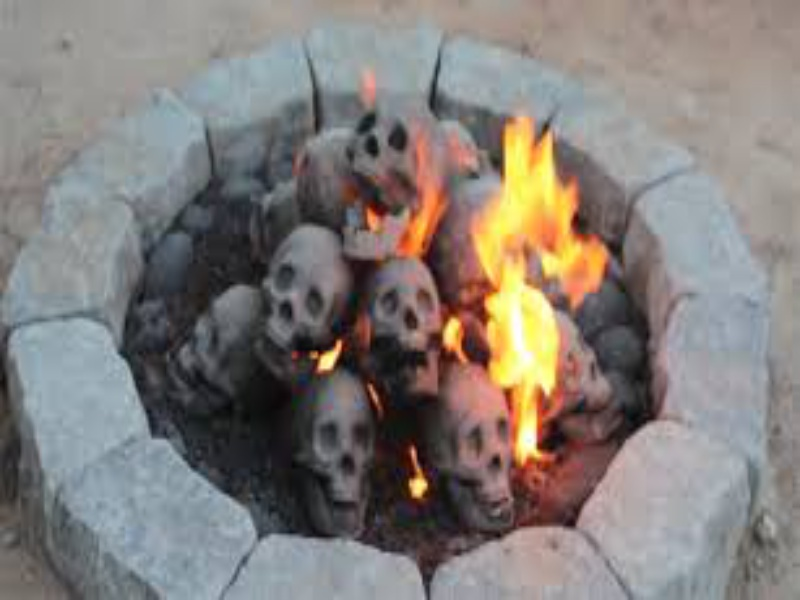fire: (471, 117, 575, 305), (495, 299, 555, 448), (403, 195, 442, 258), (575, 238, 612, 296), (407, 444, 429, 499), (316, 340, 346, 376), (442, 318, 469, 357)
